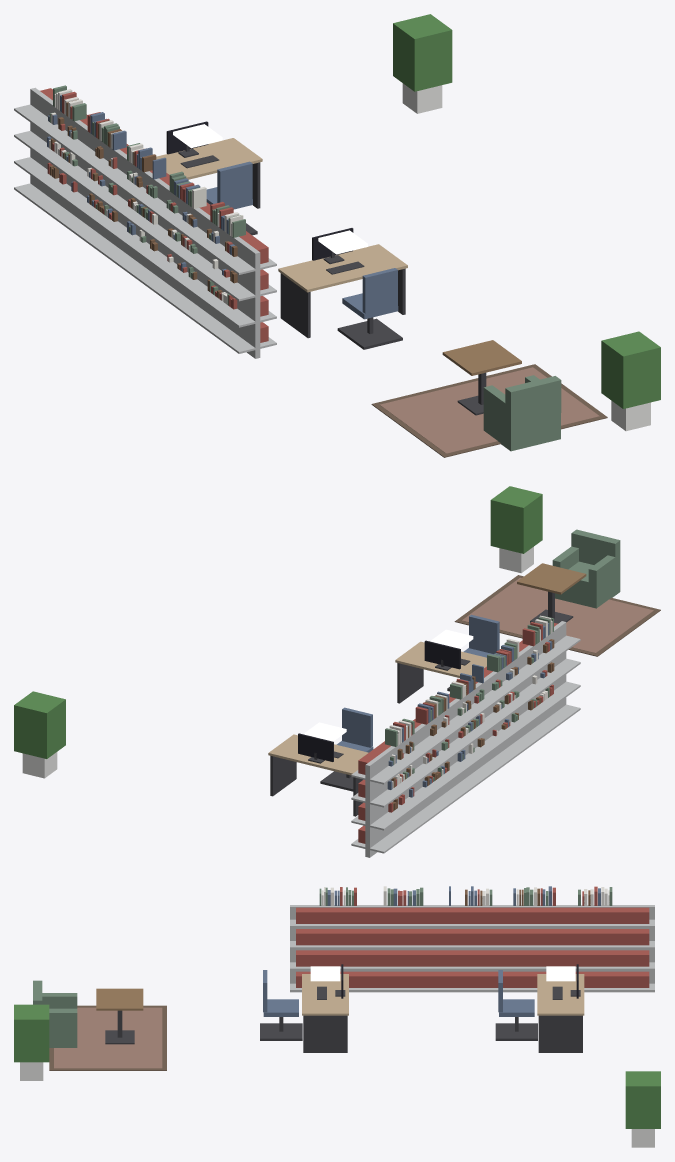
Rendered from fine-s1.glb.
3 renders of one model, top to bottom at view 1: azimuth 30°, elevation 25°; view 2: azimuth 150°, elevation 25°; view 3: azimuth 270°, elevation 25°, orthographic. The views are drawn at different scales.
Parts seen in each view (by area): view 1: soft-s1, shelving.005, shelving.001, office-desk-real.001, shelving.004, plant-medium.001, plant-medium.000, sofa.000, shelving.002, shelving.003, office-desk-real.000, office-chair-real.001 (+4 smaller); view 2: soft-s1, shelving.001, shelving.002, shelving.005, plant-medium.000, sofa.000, plant-medium.001, office-desk-real.000, shelving.003, shelving.004, office-desk-real.001, coffee-table.000 (+2 smaller); view 3: soft-s1, shelving.001, shelving.004, shelving.003, shelving.005, shelving.002, office-desk-real.000, office-desk-real.001, plant-medium.000, plant-medium.001, sofa.000, coffee-table.000 (+4 smaller).
Part boxes in pixels (left/top/right/bottom): soft-s1: left=47, top=85, right=607, bottom=457; shelving.005: left=173, top=205, right=276, bottom=358; shelving.001: left=14, top=87, right=95, bottom=236; office-desk-real.001: left=278, top=228, right=407, bottom=338; shelving.004: left=134, top=176, right=215, bottom=322; plant-medium.001: left=393, top=14, right=452, bottom=113; plant-medium.000: left=601, top=331, right=660, bottom=431; sofa.000: left=483, top=375, right=561, bottom=451; shelving.002: left=54, top=119, right=135, bottom=265; shelving.003: left=94, top=148, right=174, bottom=295; office-desk-real.000: left=156, top=121, right=262, bottom=208; office-chair-real.001: left=337, top=268, right=402, bottom=349; soft-s1: left=385, top=575, right=660, bottom=812; shelving.001: left=351, top=723, right=441, bottom=857; shelving.002: left=404, top=699, right=475, bottom=827; shelving.005: left=509, top=621, right=580, bottom=747; plant-medium.000: left=490, top=486, right=542, bottom=573; sofa.000: left=552, top=529, right=620, bottom=608; plant-medium.001: left=14, top=691, right=65, bottom=778; office-desk-real.000: left=268, top=733, right=368, bottom=816; shelving.003: left=441, top=672, right=510, bottom=795; shelving.004: left=475, top=647, right=545, bottom=775; office-desk-real.001: left=395, top=640, right=486, bottom=703; coffee-table.000: left=517, top=563, right=586, bottom=623; soft-s1: left=49, top=886, right=612, bottom=1070; shelving.001: left=549, top=905, right=654, bottom=992; shelving.004: left=355, top=905, right=460, bottom=992; shelving.003: left=419, top=905, right=525, bottom=992; shelving.005: left=290, top=905, right=395, bottom=992; shelving.002: left=484, top=905, right=590, bottom=992; office-desk-real.000: left=537, top=964, right=584, bottom=1052; office-desk-real.001: left=302, top=964, right=348, bottom=1052; plant-medium.000: left=14, top=1004, right=49, bottom=1080; plant-medium.001: left=625, top=1071, right=660, bottom=1147; sofa.000: left=33, top=980, right=77, bottom=1047; coffee-table.000: left=96, top=988, right=143, bottom=1044.
Bounding box in the file's own units: 6.68 × 1.93 × 10.99.
